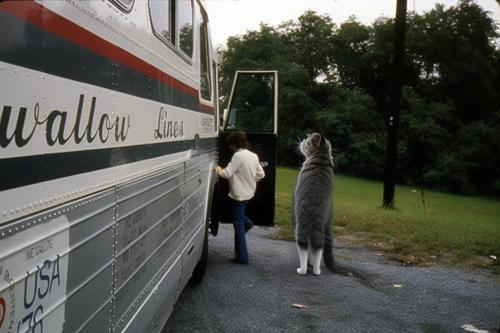bus: (3, 1, 278, 330)
cat: (291, 135, 333, 275)
person: (217, 132, 268, 266)
person/foot: (231, 259, 251, 264), (245, 223, 252, 232)
person/head: (228, 131, 245, 153)
